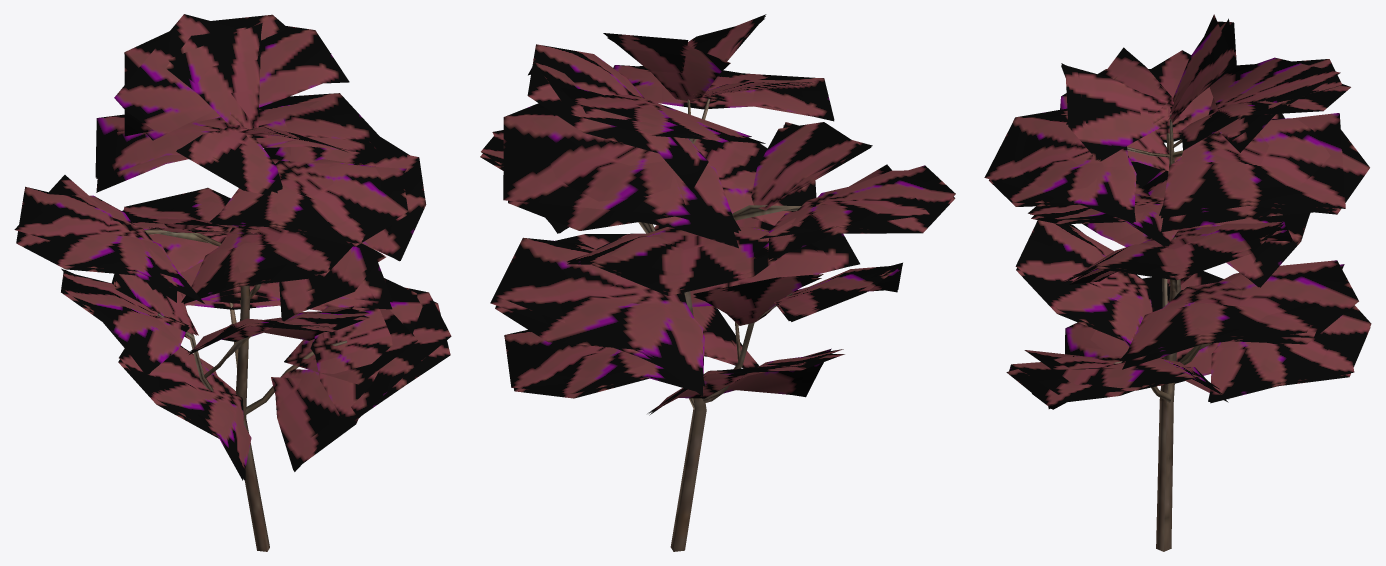
Rendered from plants_un_plant03_purple.gltf.
The picture shows the model from 3 angles, left to right: view 1: azimuth 30°, elevation 25°; view 2: azimuth 150°, elevation 25°; view 3: azimuth 270°, elevation 25°; orthographic projection. The views are drawn at different scales.
Visible parts, largest first — view 1: um_plants_un_plant03_purple_model_lod0Shape:plants_un_plant0 (×2), um_plants_un_plant03_purple_model_lod1Shape:plants_un_plant0 (×2), um_plants_un_plant03_purple_model_lod2Shape:plants_un_plant0 (×2); view 2: um_plants_un_plant03_purple_model_lod0Shape:plants_un_plant0 (×2), um_plants_un_plant03_purple_model_lod2Shape:plants_un_plant0 (×2), um_plants_un_plant03_purple_model_lod1Shape:plants_un_plant0 (×2); view 3: um_plants_un_plant03_purple_model_lod0Shape:plants_un_plant0 (×2), um_plants_un_plant03_purple_model_lod1Shape:plants_un_plant0, um_plants_un_plant03_purple_model_lod2Shape:plants_un_plant0 (×2).
Part boxes in pixels (left/top/right/bottom): um_plants_un_plant03_purple_model_lod0Shape:plants_un_plant0 (×2): left=16, top=26, right=450, bottom=551; um_plants_un_plant03_purple_model_lod1Shape:plants_un_plant0 (×2): left=16, top=14, right=451, bottom=480; um_plants_un_plant03_purple_model_lod2Shape:plants_un_plant0 (×2): left=14, top=14, right=424, bottom=551; um_plants_un_plant03_purple_model_lod0Shape:plants_un_plant0 (×2): left=480, top=18, right=955, bottom=551; um_plants_un_plant03_purple_model_lod2Shape:plants_un_plant0 (×2): left=490, top=16, right=929, bottom=551; um_plants_un_plant03_purple_model_lod1Shape:plants_un_plant0 (×2): left=481, top=14, right=955, bottom=413; um_plants_un_plant03_purple_model_lod0Shape:plants_un_plant0 (×2): left=989, top=21, right=1370, bottom=551; um_plants_un_plant03_purple_model_lod1Shape:plants_un_plant0: left=990, top=14, right=1371, bottom=408; um_plants_un_plant03_purple_model_lod2Shape:plants_un_plant0 (×2): left=984, top=18, right=1354, bottom=548.
Bounding box in the file's own units: 1.2 × 1.42 × 0.9803.
Materials: 2 (2 with a texture image).
